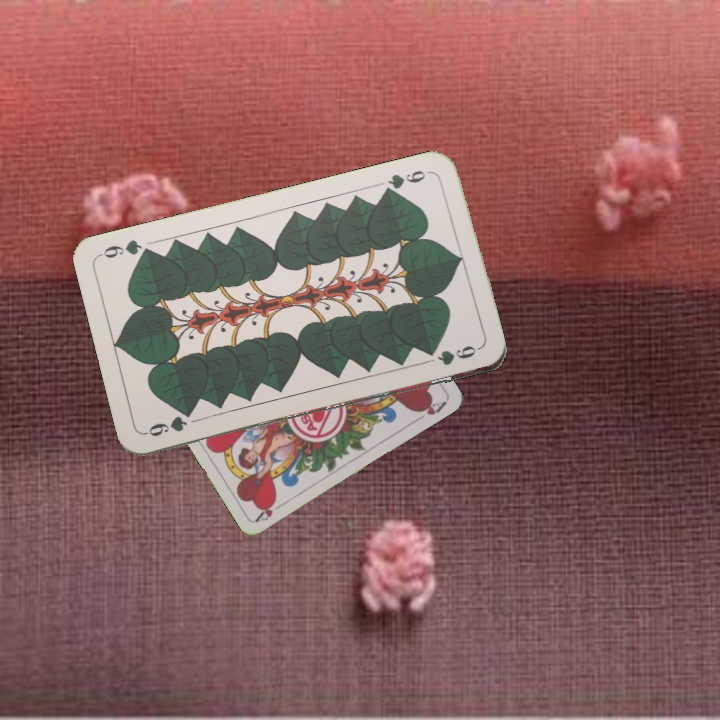G9: (380, 166, 437, 196), (141, 412, 190, 439)
HA: (252, 496, 289, 524)
